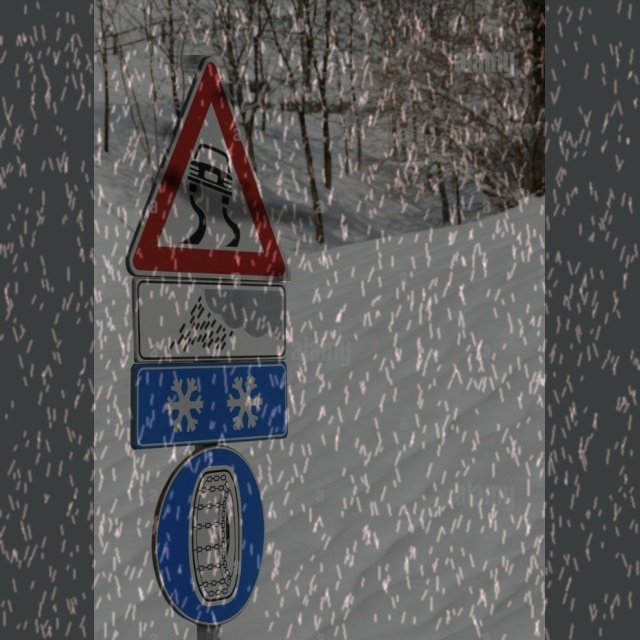Slippery_Road: (139, 55, 291, 281)
